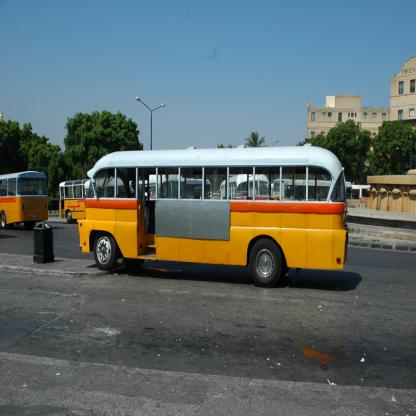Bus: (79, 143, 349, 287), (59, 179, 123, 223), (0, 171, 48, 229), (274, 180, 354, 200), (221, 174, 270, 200), (353, 185, 371, 200)
